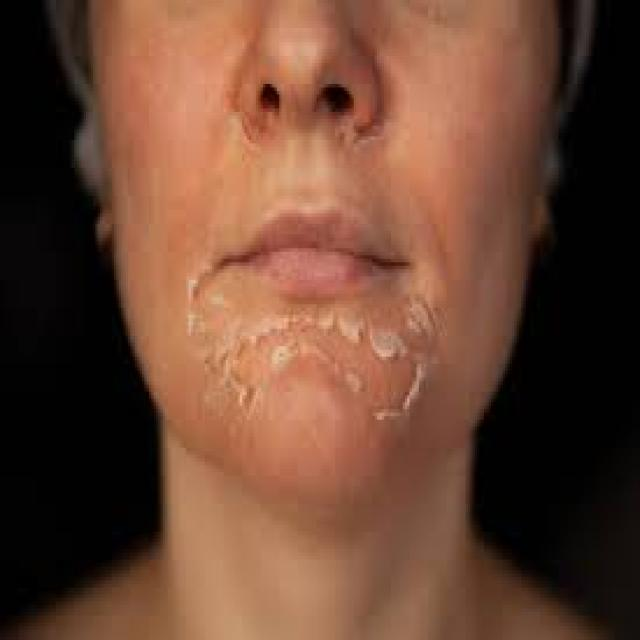flakiness: (189, 277, 448, 433)
